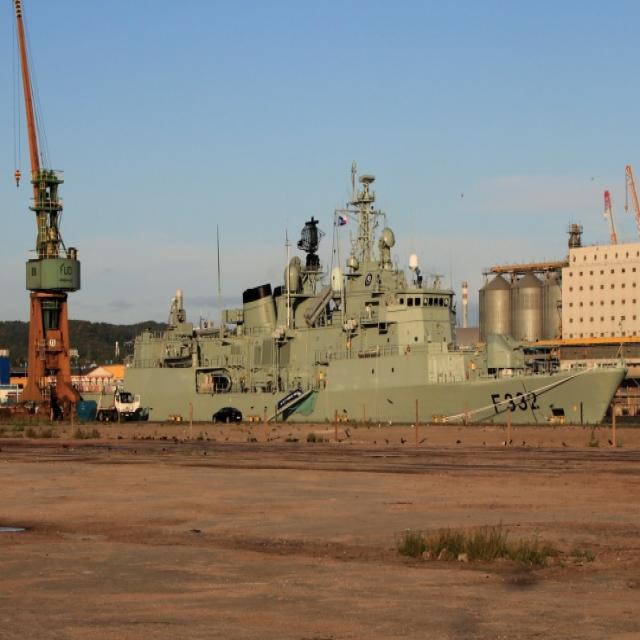Fragata: (104, 163, 637, 432)
